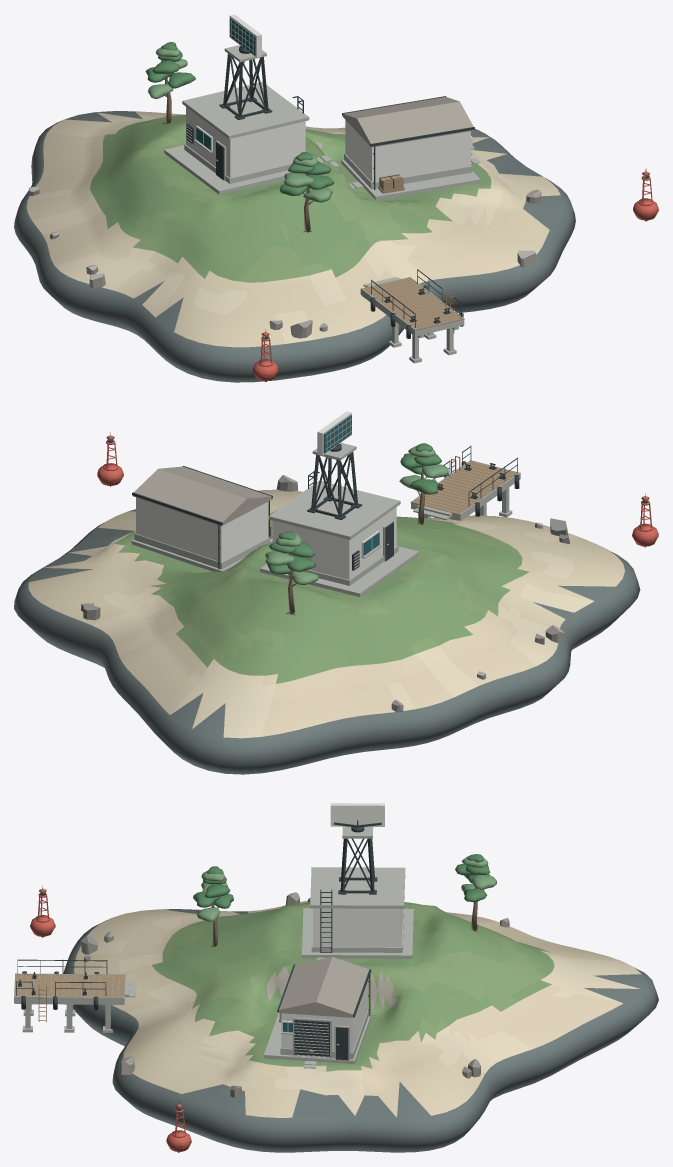
Rendered from ENV_RadarOutpost__Seed20261002_LOD1.fbx.
3 renders of one model, top to bottom at view 1: azimuth 30°, elevation 25°; view 2: azimuth 150°, elevation 25°; view 3: azimuth 270°, elevation 25°, orthographic. The views are drawn at different scales.
Visible parts, largest first — view 1: TerrainShell, ENV_RadarStation_0_Visual, ENV_SupplyDepot_1_Visual, ENV_Jetty_4_Visual, ENV_CoastalPine_2_Visual, ENV_CoastalPine_3_Visual, Decor_Visual, SearchArrayHead_Visual, ENV_NavigationBuoy_5_Visual, ENV_NavigationBuoy_6_Visual; view 2: TerrainShell, ENV_RadarStation_0_Visual, ENV_SupplyDepot_1_Visual, ENV_Jetty_4_Visual, ENV_CoastalPine_3_Visual, ENV_CoastalPine_2_Visual, Decor_Visual, SearchArrayHead_Visual, ENV_NavigationBuoy_5_Visual, ENV_NavigationBuoy_6_Visual; view 3: TerrainShell, ENV_RadarStation_0_Visual, ENV_SupplyDepot_1_Visual, ENV_Jetty_4_Visual, ENV_CoastalPine_2_Visual, Decor_Visual, ENV_CoastalPine_3_Visual, SearchArrayHead_Visual, ENV_NavigationBuoy_5_Visual, ENV_NavigationBuoy_6_Visual.
Part boxes in pixels (x1=…): TerrainShell: x1=14, y1=111, x2=575, y2=382; ENV_RadarStation_0_Visual: x1=164, y1=45, x2=309, y2=194; ENV_SupplyDepot_1_Visual: x1=341, y1=96, x2=480, y2=200; ENV_Jetty_4_Visual: x1=360, y1=269, x2=464, y2=363; ENV_CoastalPine_2_Visual: x1=279, y1=152, x2=333, y2=232; ENV_CoastalPine_3_Visual: x1=145, y1=42, x2=195, y2=124; Decor_Visual: x1=28, y1=155, x2=541, y2=338; SearchArrayHead_Visual: x1=229, y1=14, x2=261, y2=57; ENV_NavigationBuoy_5_Visual: x1=252, y1=329, x2=278, y2=381; ENV_NavigationBuoy_6_Visual: x1=633, y1=169, x2=658, y2=221; TerrainShell: x1=14, y1=489, x2=640, y2=774; ENV_RadarStation_0_Visual: x1=260, y1=442, x2=419, y2=596; ENV_SupplyDepot_1_Visual: x1=131, y1=466, x2=272, y2=571; ENV_Jetty_4_Visual: x1=410, y1=446, x2=520, y2=520; ENV_CoastalPine_3_Visual: x1=265, y1=531, x2=319, y2=615; ENV_CoastalPine_2_Visual: x1=399, y1=443, x2=448, y2=525; Decor_Visual: x1=81, y1=475, x2=569, y2=712; SearchArrayHead_Visual: x1=317, y1=411, x2=351, y2=455; ENV_NavigationBuoy_5_Visual: x1=632, y1=493, x2=658, y2=547; ENV_NavigationBuoy_6_Visual: x1=97, y1=432, x2=123, y2=486; TerrainShell: x1=63, y1=900, x2=658, y2=1152; ENV_RadarStation_0_Visual: x1=302, y1=826, x2=413, y2=958; ENV_SupplyDepot_1_Visual: x1=263, y1=957, x2=371, y2=1064; ENV_Jetty_4_Visual: x1=14, y1=959, x2=136, y2=1032; ENV_CoastalPine_2_Visual: x1=193, y1=866, x2=233, y2=947; Decor_Visual: x1=81, y1=892, x2=509, y2=1097; ENV_CoastalPine_3_Visual: x1=455, y1=854, x2=496, y2=932; SearchArrayHead_Visual: x1=330, y1=803, x2=384, y2=827; ENV_NavigationBuoy_5_Visual: x1=30, y1=886, x2=55, y2=937; ENV_NavigationBuoy_6_Visual: x1=166, y1=1101, x2=191, y2=1152.
Size of the model in its own units: 3237 by 1344 by 3502.
